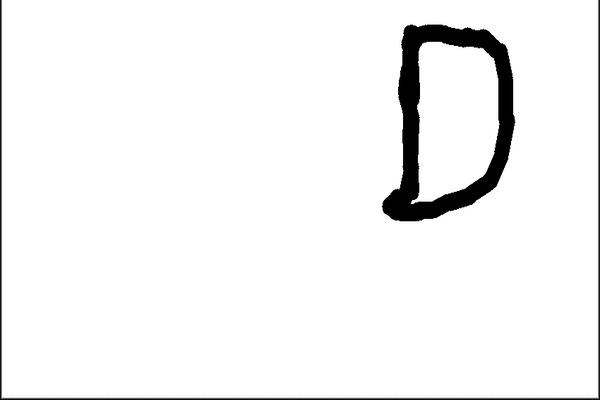D: (374, 19, 527, 226)
